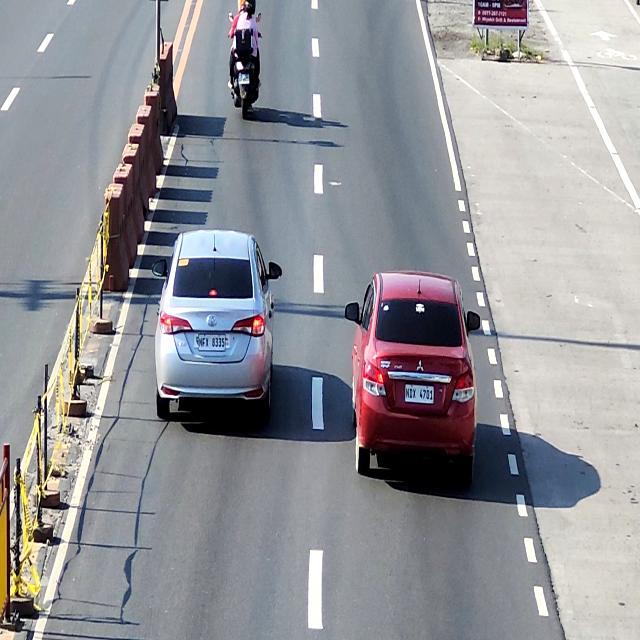Car: (344, 270, 481, 490), (151, 228, 283, 424)
License-Plate: (405, 385, 434, 404), (198, 334, 226, 351), (238, 73, 250, 85)
Motorcycle: (228, 11, 263, 122)
